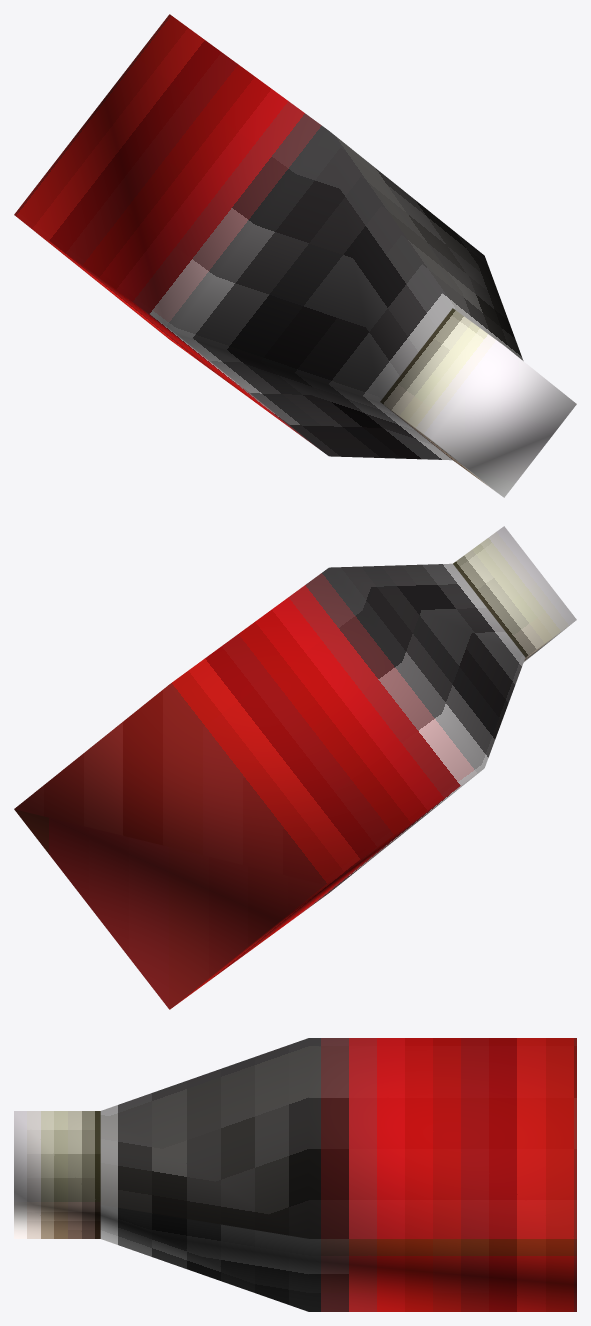
Rendered from Potion02.glb.
3 views of the same model, one above another, from view 1: azimuth 30°, elevation 25°; view 2: azimuth 150°, elevation 25°; view 3: azimuth 270°, elevation 25° (orthographic). The views are drawn at different scales.
Parts seen in each view (by area): view 1: model_Potion02; view 2: model_Potion02; view 3: model_Potion02.
Boxes of the visible parts, x1=… form: model_Potion02: x1=14, y1=14, x2=576, y2=497; model_Potion02: x1=14, y1=526, x2=576, y2=1009; model_Potion02: x1=14, y1=1038, x2=576, y2=1311.
Bounding box in the file's own units: 0.1466 × 0.1466 × 0.2731.
Materials: 2 (2 with a texture image).
